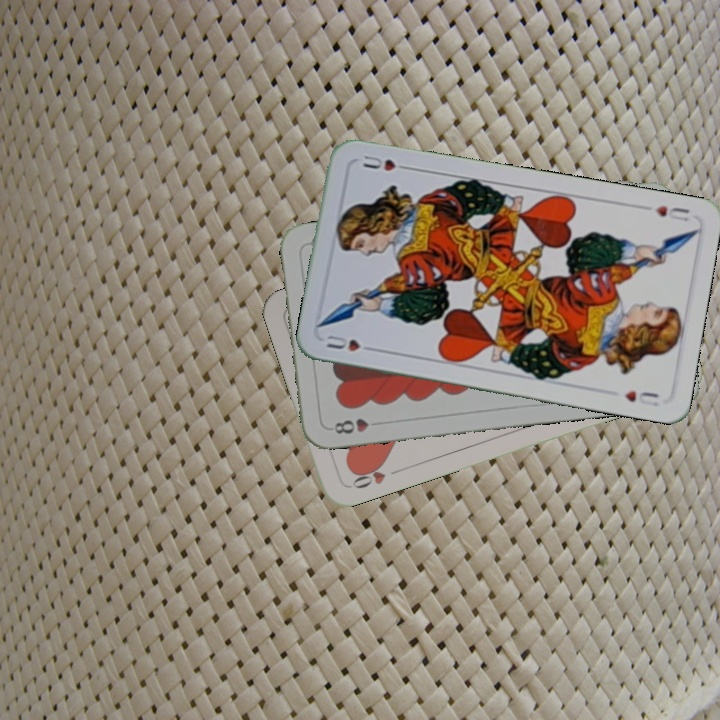H8: (330, 414, 385, 437)
HO: (345, 458, 389, 492)
HU: (323, 331, 379, 354), (650, 201, 692, 224)
